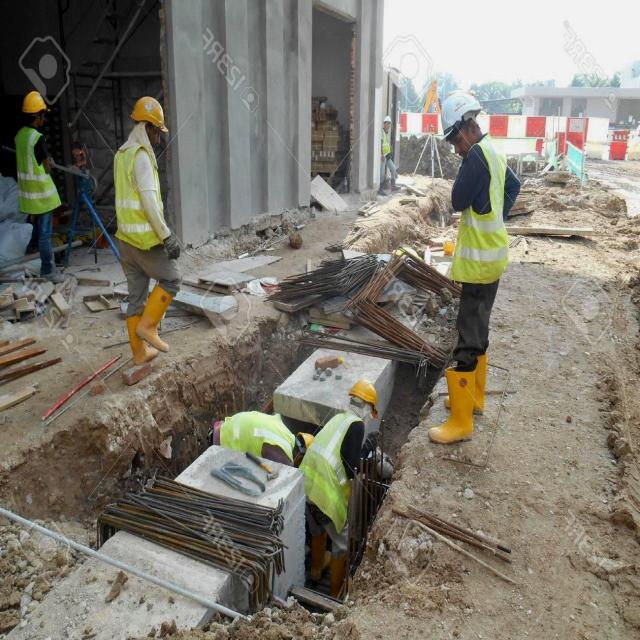boots: (420, 362, 481, 448), (132, 283, 176, 356), (124, 308, 163, 367)
face_nomask: (447, 125, 477, 164)
hand_glove: (162, 229, 180, 261)
head_helmet: (439, 88, 486, 131), (127, 93, 166, 129), (348, 373, 385, 403), (18, 82, 48, 115), (296, 425, 317, 452), (380, 112, 392, 124)
person: (424, 88, 503, 451), (300, 375, 386, 593), (120, 76, 172, 370), (15, 82, 55, 284), (198, 416, 319, 479), (371, 108, 400, 192)
shoes: (308, 530, 332, 583)
vest: (454, 144, 502, 280), (110, 146, 160, 243), (307, 420, 355, 519), (13, 130, 54, 219), (218, 412, 287, 460), (379, 132, 392, 157)
